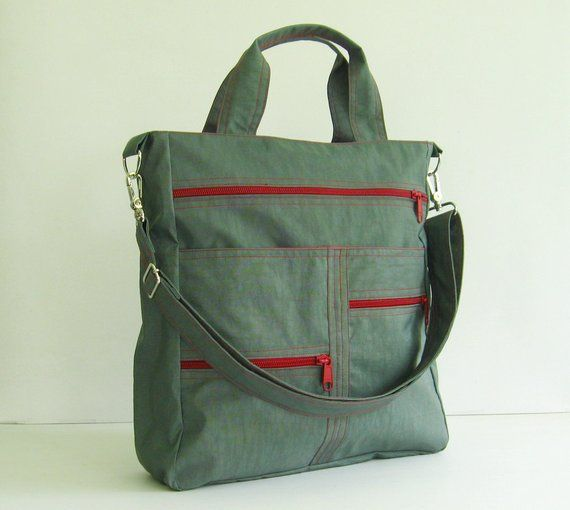nylon: (122, 23, 465, 491)
